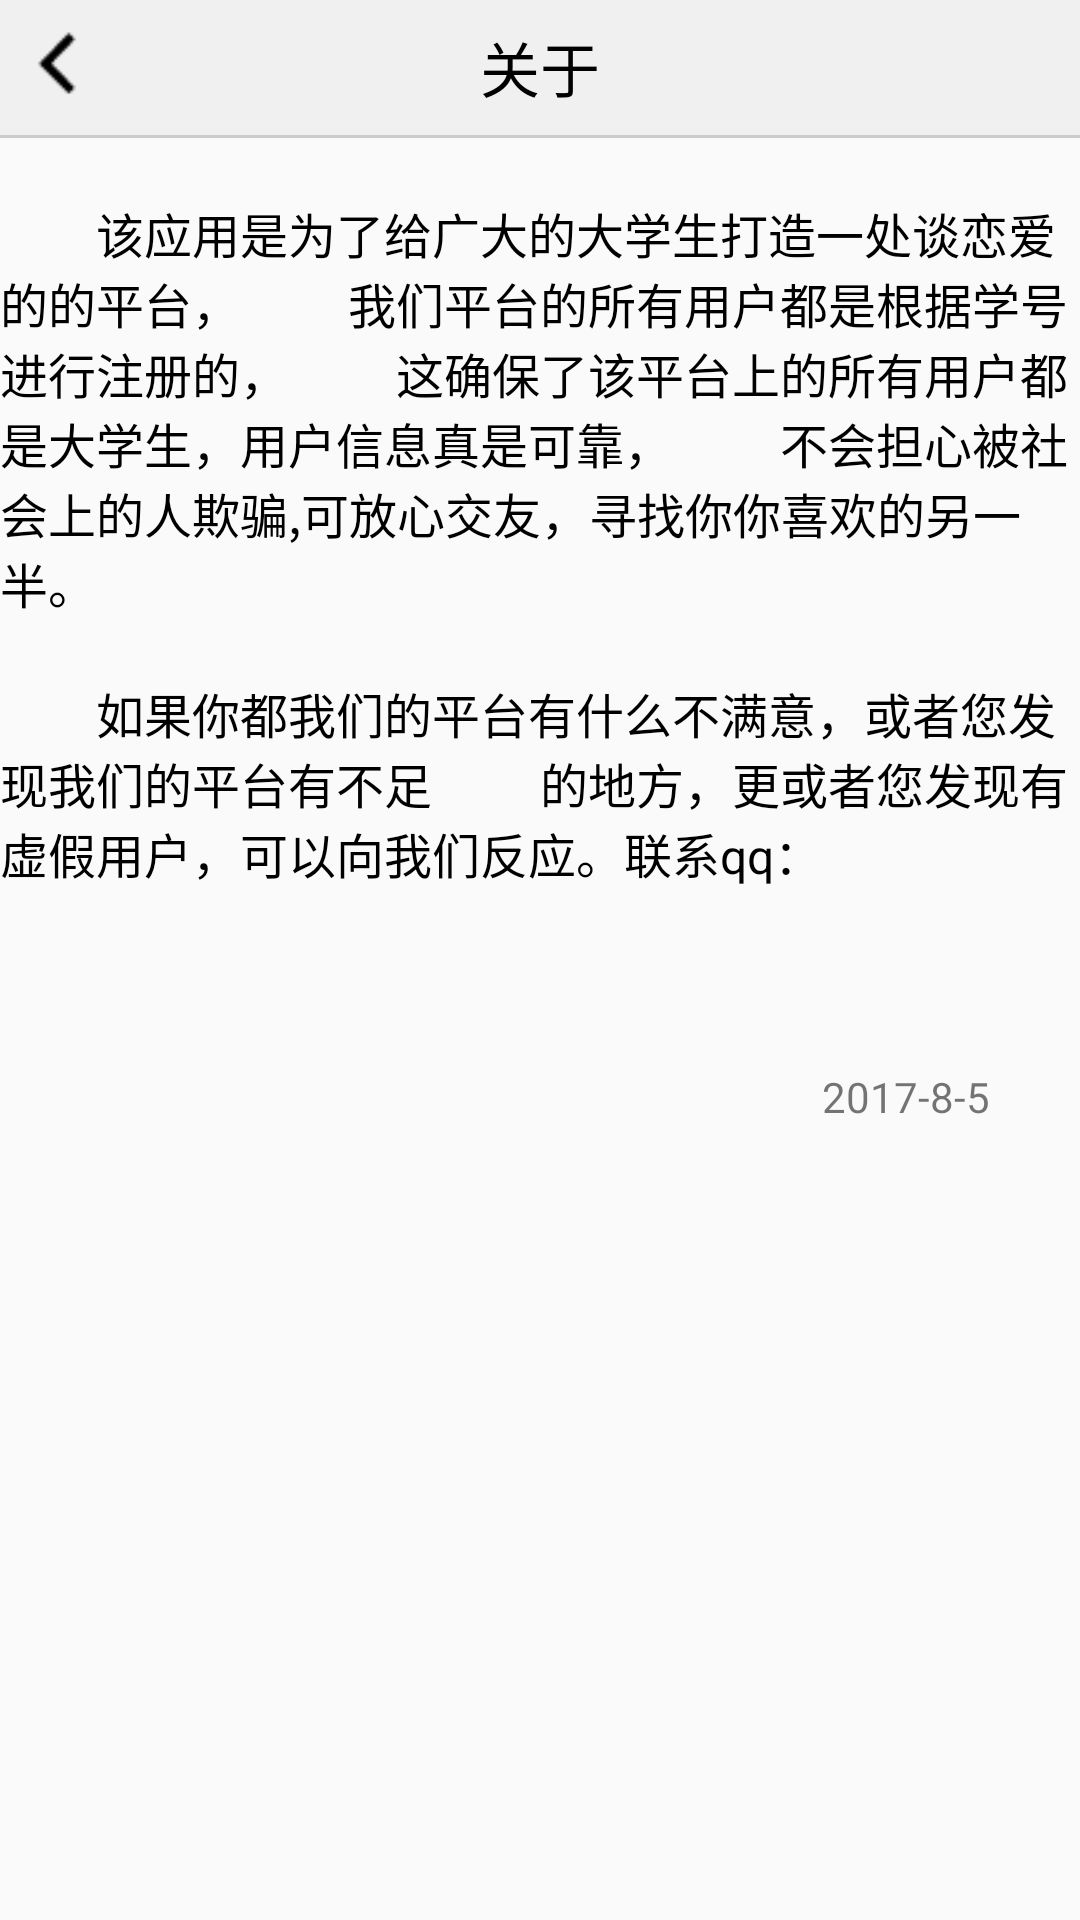

Icons on this 1080 x 1920 Android screen, each with the point to tap as point (x, y):
back: point (57, 63)
